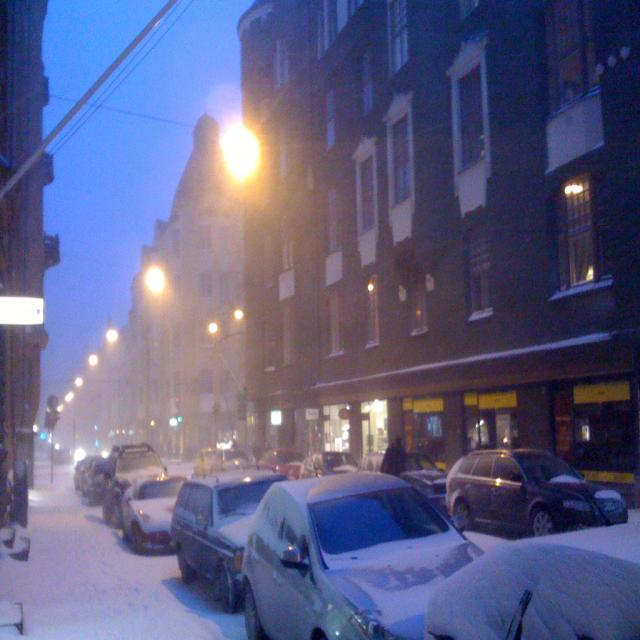car: (426, 446, 620, 545)
